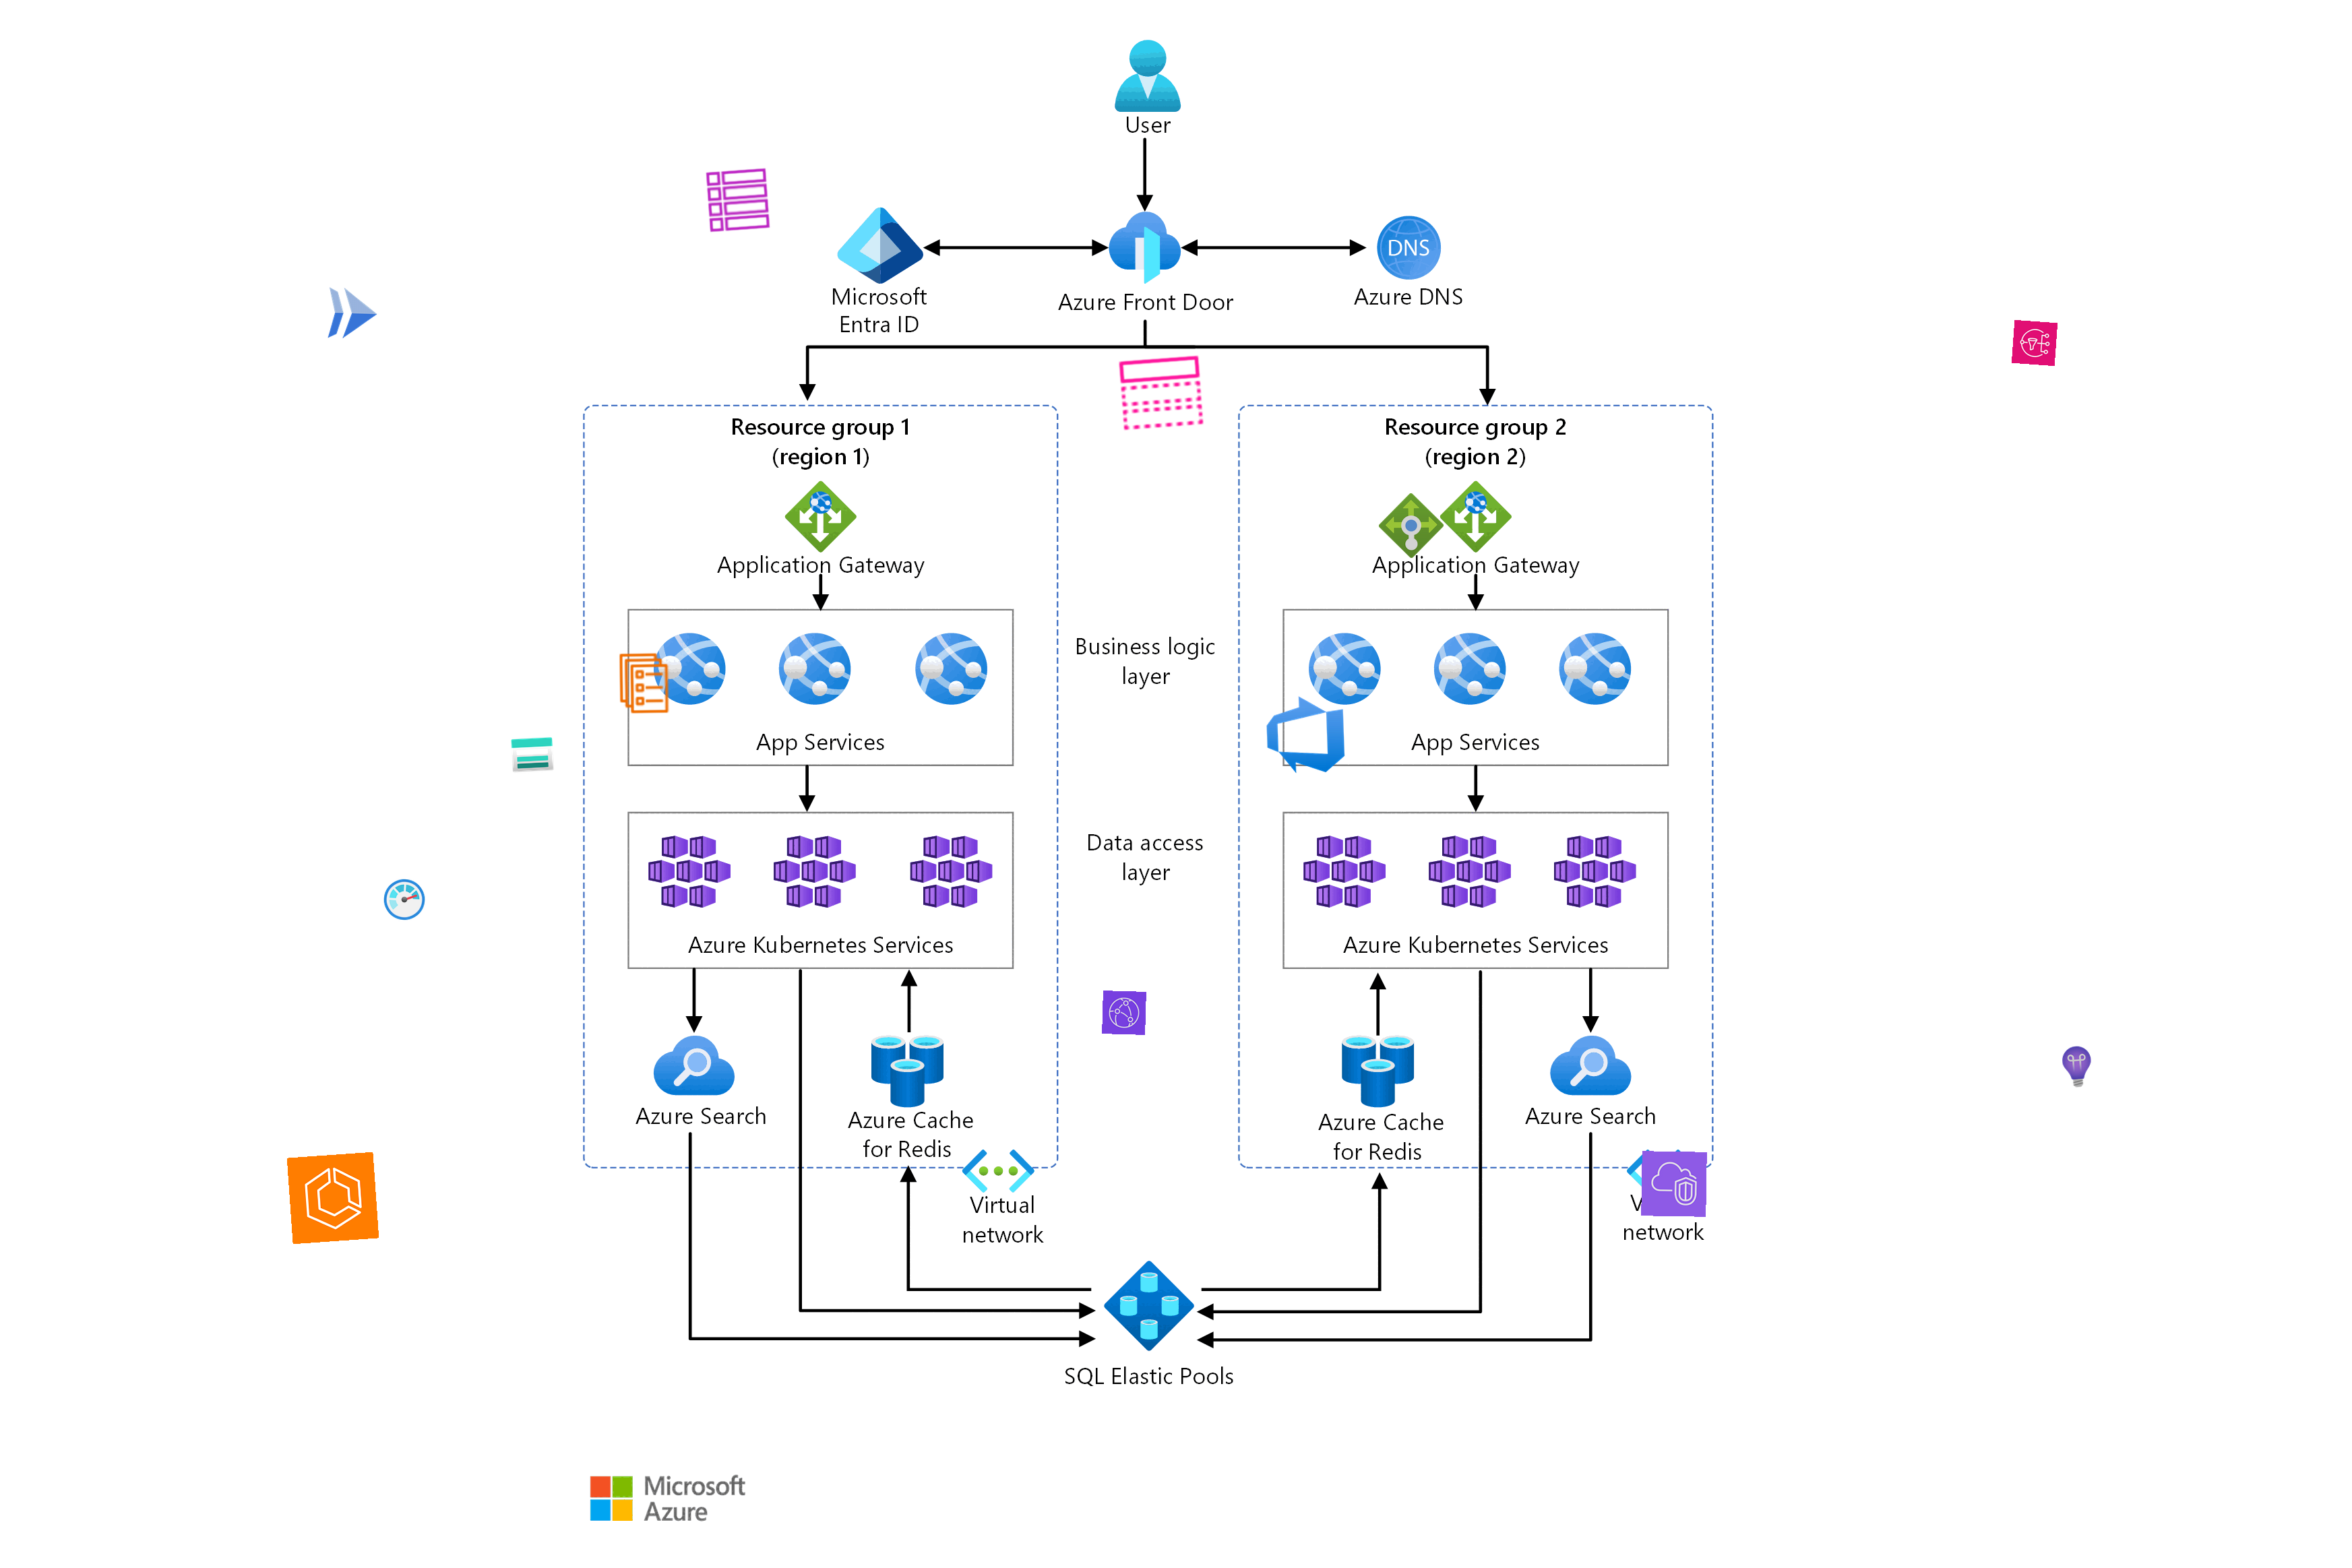aws_amazon_cloudfront: (1102, 991, 1146, 1034)
aws_amazon_elastic_container_service: (287, 1151, 380, 1244)
aws_amazon_simple_notification_service: (2011, 320, 2058, 366)
aws_amazon_virtual_private_cloud: (1642, 1151, 1706, 1216)
aws_dynamodb_table: (703, 165, 774, 234)
aws_elastic_container_service_service: (611, 651, 677, 716)
aws_simple_notification_service_topic: (1115, 346, 1207, 439)
azure_application_insights: (2053, 1043, 2100, 1090)
azure_devops: (1260, 689, 1351, 779)
azure_load_balancers: (1379, 492, 1444, 558)
azure_monitor: (381, 877, 427, 922)
azure_storage_accounts: (509, 732, 555, 777)
gcp_cloud_run: (318, 280, 385, 346)
